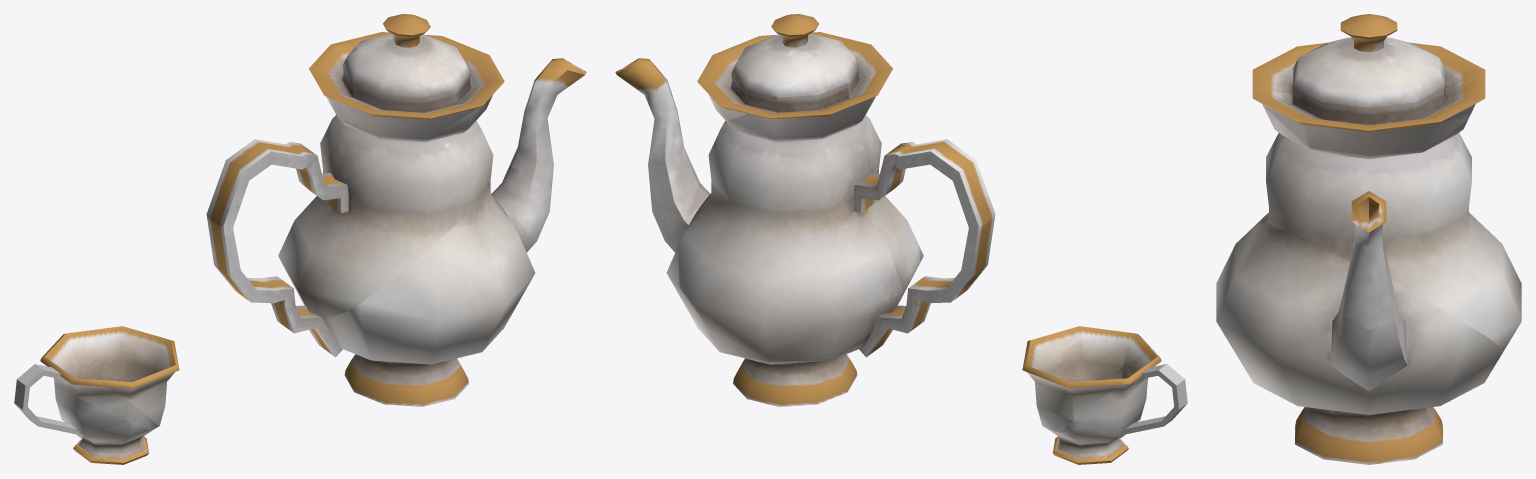
Rendered from teapot_shatter.fbx.
3 renders of one model, left to right at view 1: azimuth 30°, elevation 25°; view 2: azimuth 150°, elevation 25°; view 3: azimuth 270°, elevation 25°, orthographic. The views are drawn at different scales.
Parts seen in each view (by area): view 1: Pieces_1_2, Pieces_2_3, Pieces_1, Pieces_1_7, Pieces_2, Pieces_2_2, Pieces_1_4, Pieces_1_5, Pieces_2_4, Pieces_1_3, Pieces_2_6, Pieces_2_5 (+1 smaller); view 2: Pieces_1_2, Pieces_1, Pieces_1_7, Pieces_2, Pieces_2_3, Pieces_2_2, Pieces_1_4, Pieces_2_4, Pieces_1_5, Pieces_1_3, Pieces_2_6, Pieces_2_5 (+1 smaller); view 3: Pieces_2_3, Pieces_1_2, Pieces_2, Pieces_2_4, Pieces_1_3, Pieces_1.
Boxes of the visible parts, bbox=[...] form: Pieces_1_2: bbox=[278, 115, 493, 319]; Pieces_2_3: bbox=[323, 188, 535, 406]; Pieces_1: bbox=[309, 40, 484, 142]; Pieces_1_7: bbox=[43, 326, 179, 425]; Pieces_2: bbox=[349, 14, 504, 110]; Pieces_2_2: bbox=[206, 139, 348, 234]; Pieces_1_4: bbox=[207, 221, 342, 357]; Pieces_1_5: bbox=[54, 383, 152, 464]; Pieces_2_4: bbox=[510, 58, 586, 185]; Pieces_1_3: bbox=[491, 164, 551, 252]; Pieces_2_6: bbox=[40, 356, 158, 429]; Pieces_2_5: bbox=[14, 381, 83, 438]; Pieces_1_2: bbox=[678, 115, 919, 361]; Pieces_1: bbox=[723, 35, 892, 142]; Pieces_1_7: bbox=[1022, 326, 1149, 432]; Pieces_2: bbox=[697, 14, 839, 119]; Pieces_2_3: bbox=[666, 194, 923, 406]; Pieces_2_2: bbox=[853, 139, 995, 237]; Pieces_1_4: bbox=[859, 219, 994, 357]; Pieces_2_4: bbox=[615, 58, 690, 188]; Pieces_1_5: bbox=[1052, 380, 1147, 464]; Pieces_1_3: bbox=[650, 162, 710, 252]; Pieces_2_6: bbox=[1052, 347, 1161, 432]; Pieces_2_5: bbox=[1118, 379, 1187, 438]; Pieces_2_3: bbox=[1216, 223, 1503, 464]; Pieces_1_2: bbox=[1258, 133, 1521, 350]; Pieces_2: bbox=[1252, 14, 1485, 158]; Pieces_2_4: bbox=[1343, 191, 1394, 330]; Pieces_1_3: bbox=[1330, 292, 1407, 391]; Pieces_1: bbox=[1252, 40, 1485, 156].
Size of the model in its own units: 12.71 by 7.75 by 5.13.
2 materials, 1 textured.
